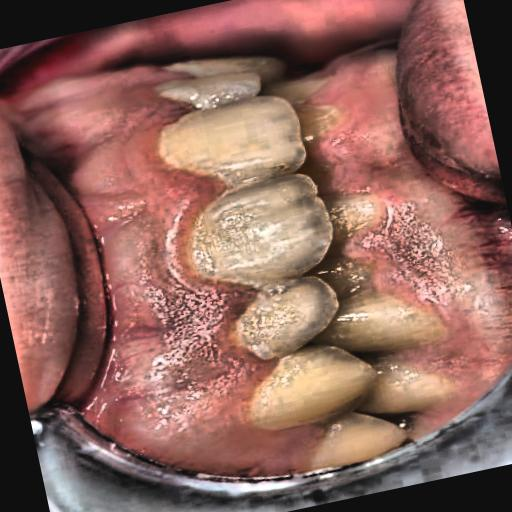Gingivitis: (44, 42, 286, 496), (317, 18, 512, 403)
